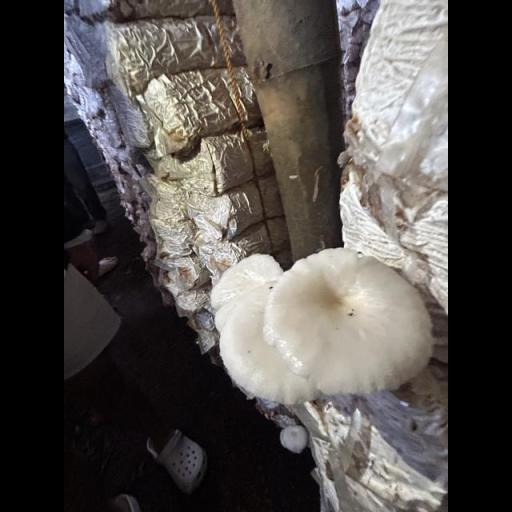White Oyster Mushroom: (208, 237, 431, 415)
